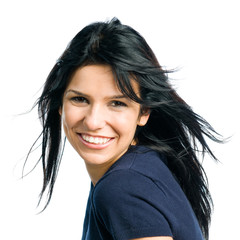teen: (47, 21, 165, 168)
